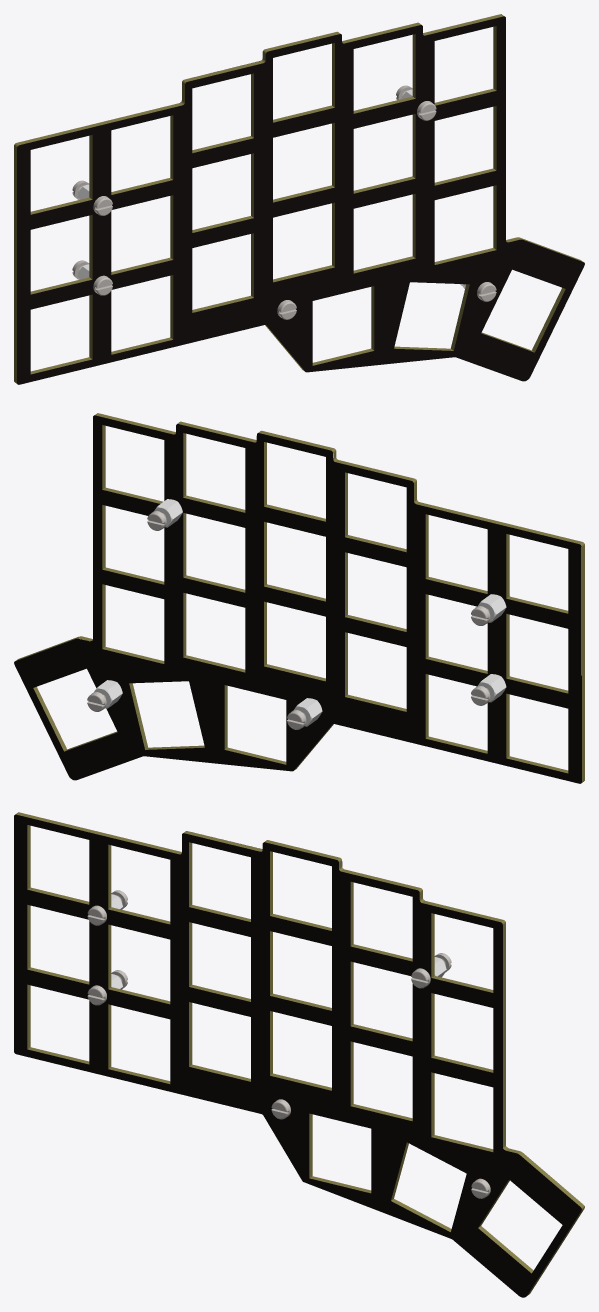
File: case-top.glb
The picture shows the model from 3 angles, top to bottom: view 1: azimuth 30°, elevation 25°; view 2: azimuth 150°, elevation 25°; view 3: azimuth 330°, elevation 25°; orthographic projection.
Parts seen in each view (by area): view 1: object 1; view 2: object 1; view 3: object 1.
Part boxes in pixels (x1,y1,x2,y2): object 1: (14, 14, 584, 384); object 1: (14, 413, 584, 783); object 1: (14, 812, 584, 1297).
Bounding box in the file's own units: 0.1265 × 0.0835 × 0.00974.
